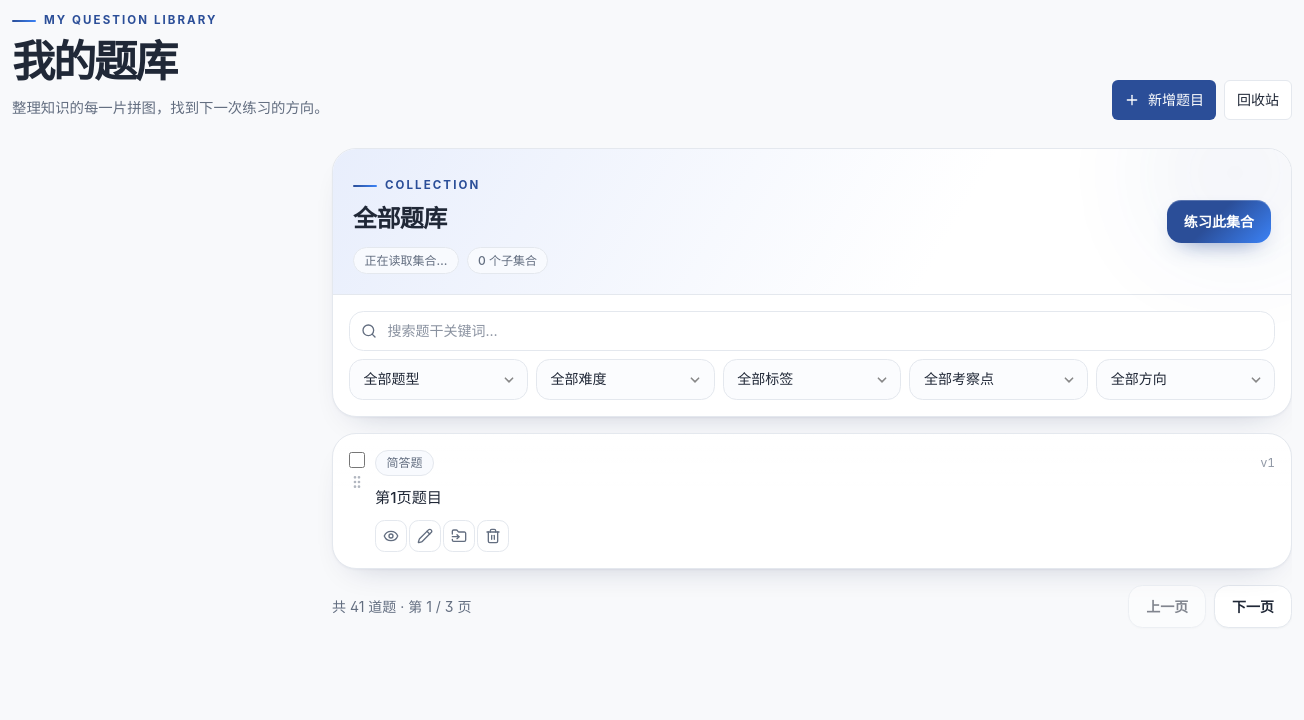
question list requests › paginates the bank and returns to page one after a filter changes
Expected: the text "第1页题目" is shown, [375,488,442,507]
Click the button "下一页" at {"x": 1253, "y": 606}, box [1214,585,1292,628]
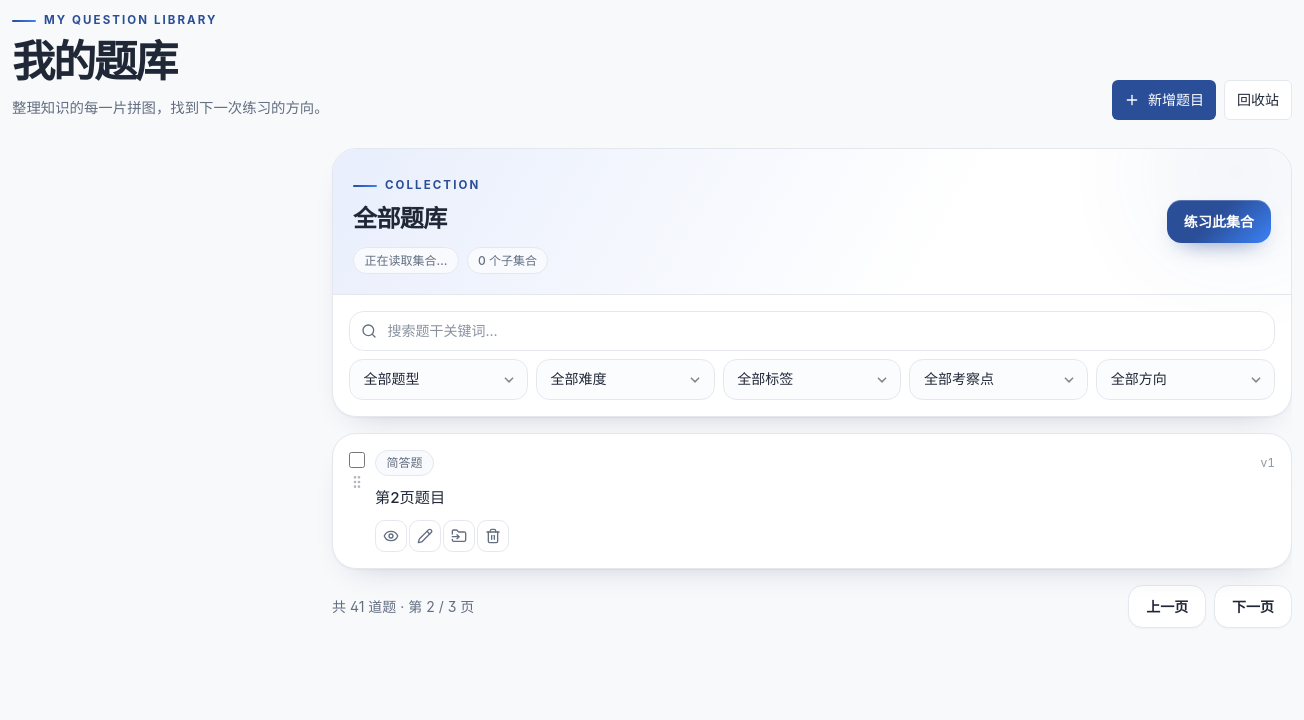
Now the text "第2页题目" is shown, box [375,488,445,507]
Select "short_answer" in the dropdown named "全部题型" at {"x": 438, "y": 379}, box [349,359,528,400]
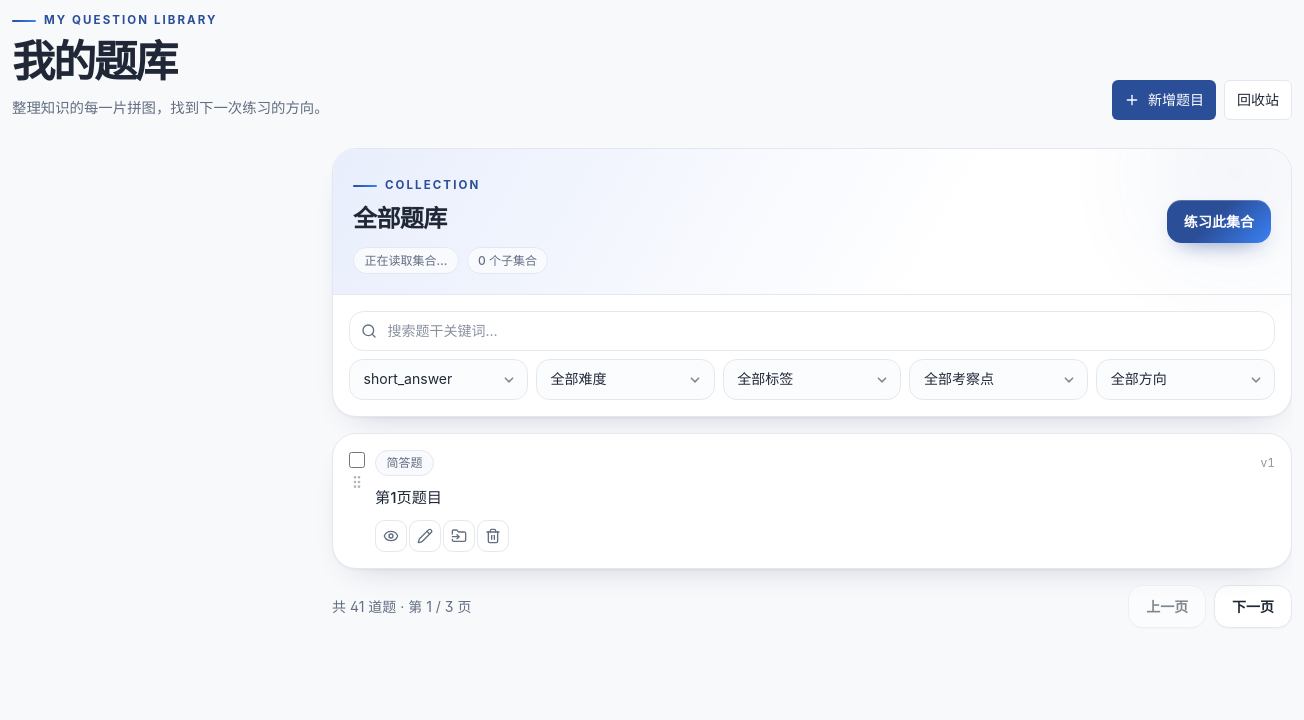
Now the text "第1页题目" is shown, box [375,488,442,507]
